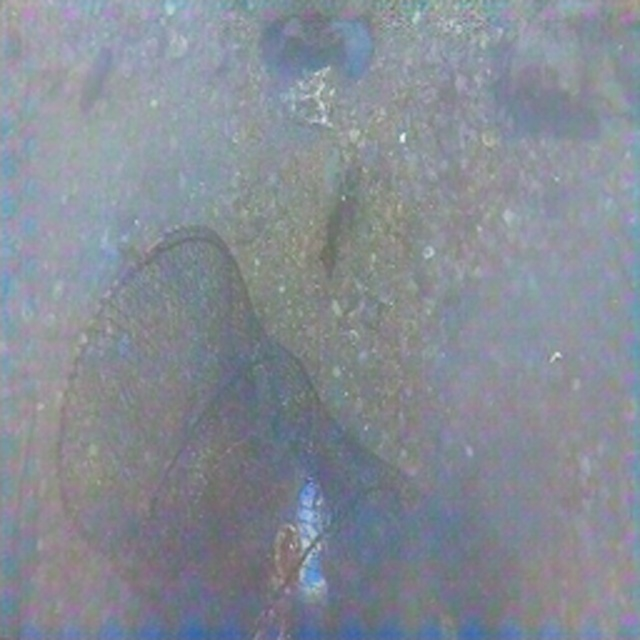mine: (54, 221, 486, 639)
